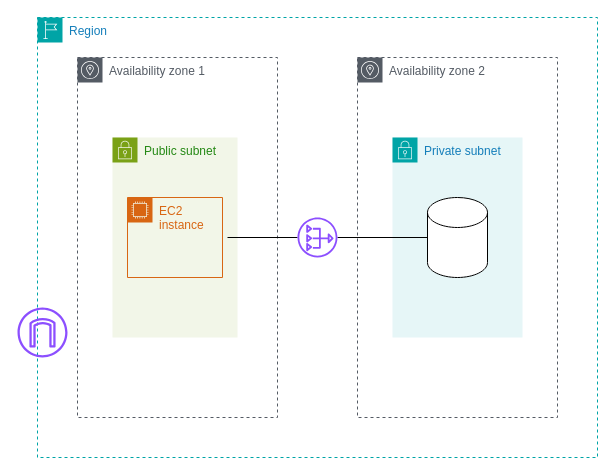
The diagram is 615 pixels wide and 475 high, and some of its shapes have lost their labels. The shapes that lost their labels are listed below. From the top down, each one's centre as x and y in pixels, then its label:
At (x=317, y=237): "Nat gateway".
At (x=457, y=237): "DB".
At (x=42, y=332): "Internet gateway".
